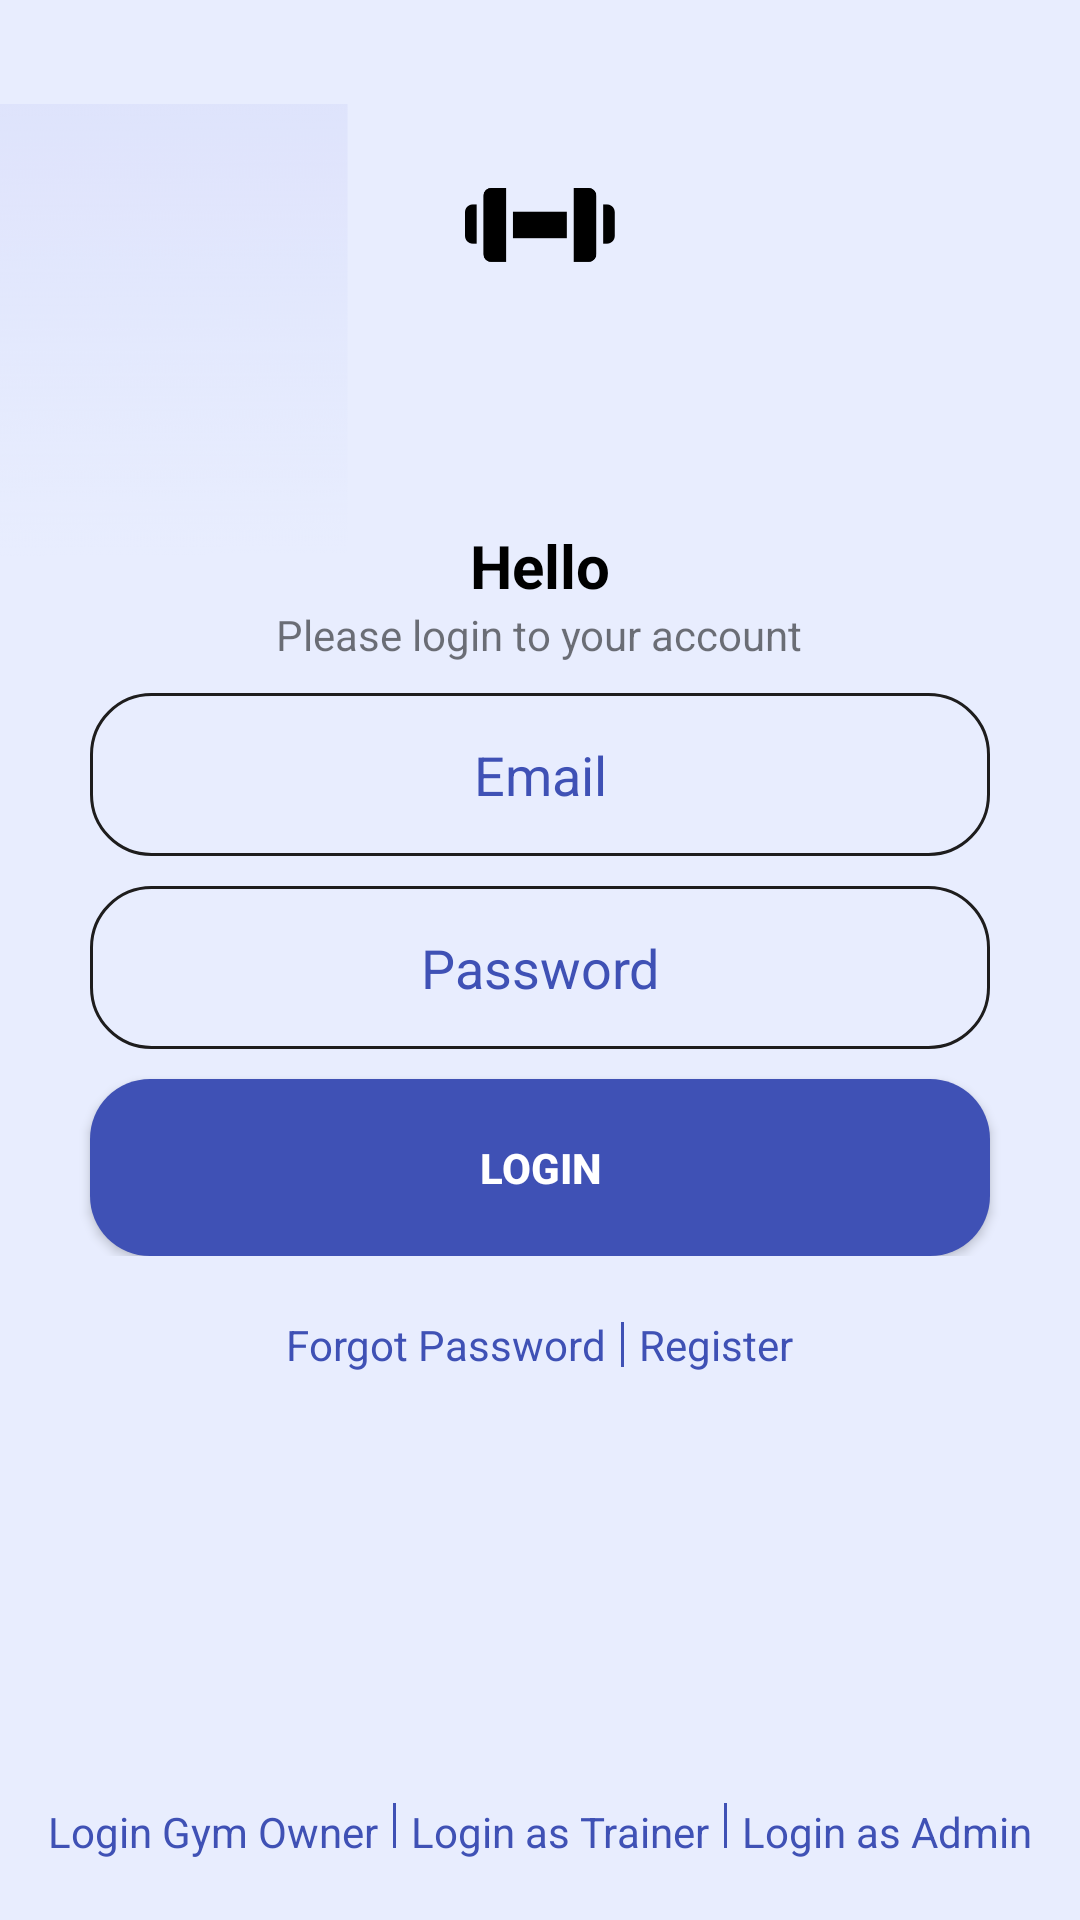

Screen size 1080w x 1920h. Icon name, then its center in pixels as (x=x, y=y):
gym: (x=540, y=225)
